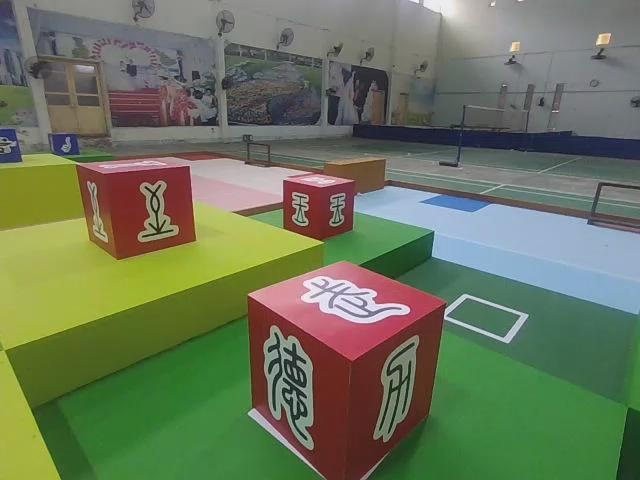R2 Fake: (244, 257, 444, 479)
R2 Real: (71, 160, 197, 256), (275, 170, 357, 238)
